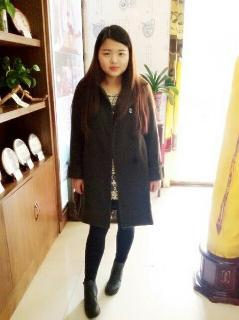long sleeve outwear: (69, 71, 165, 229)
trousers: (84, 160, 140, 285)
